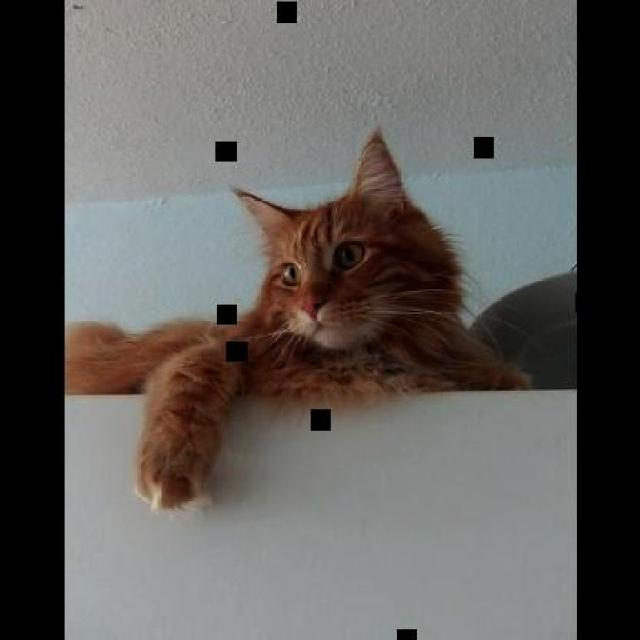unauthorized: (65, 125, 532, 512)
